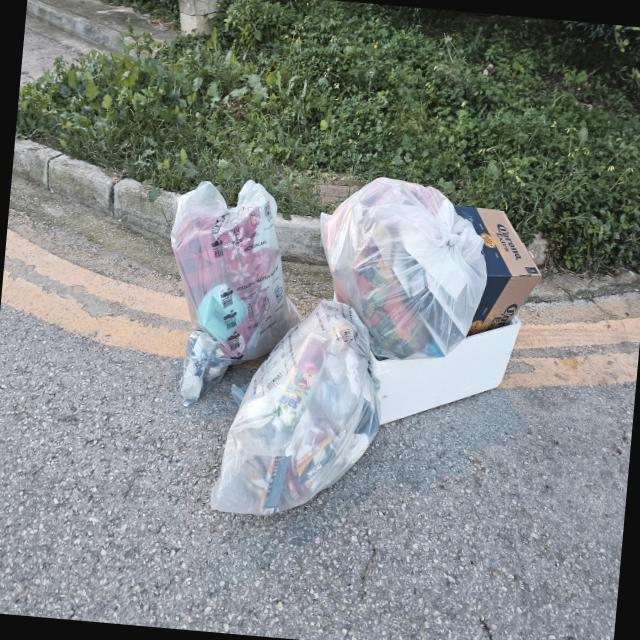grey_bag: (202, 292, 386, 524), (159, 182, 311, 406), (310, 179, 490, 361)
other_waste: (466, 210, 549, 335)
